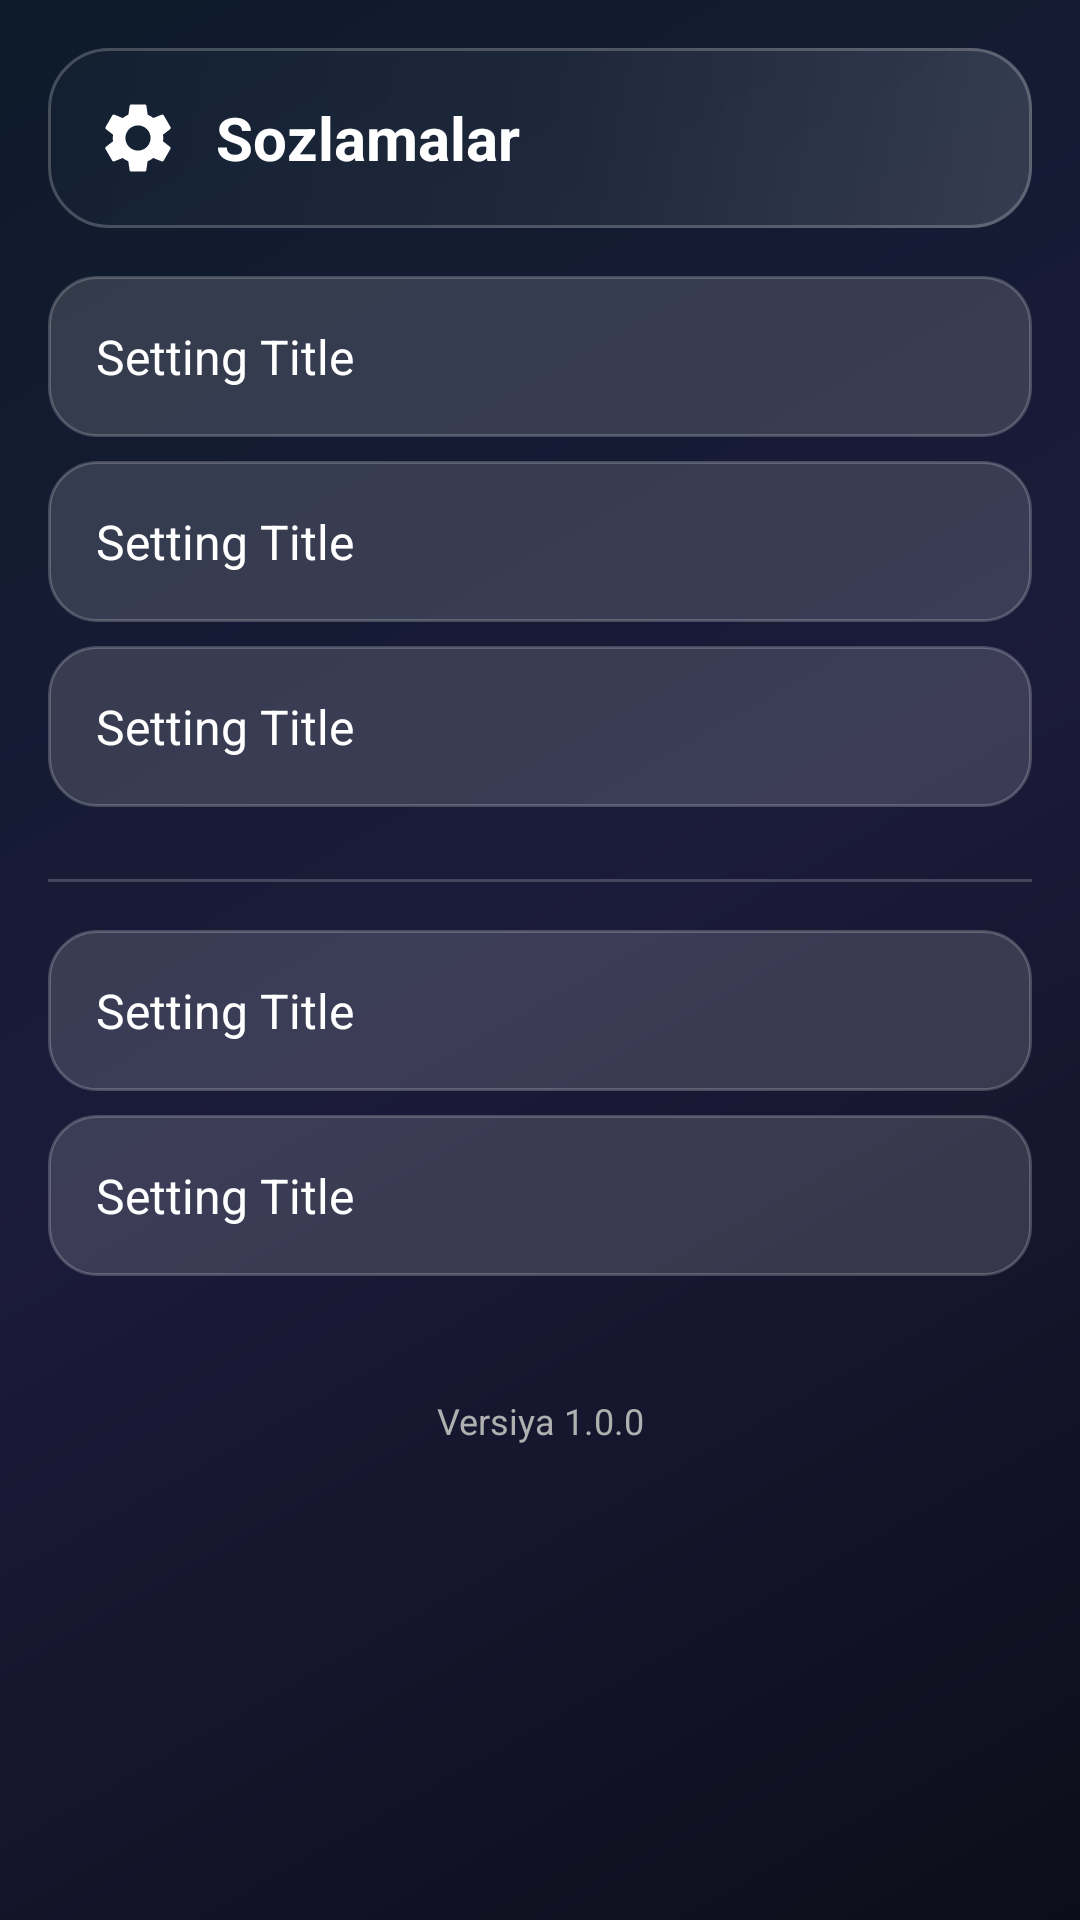

Locate icon controls on the screen. Image size 1080*1920, boxes as (x1, y1, x2, y2).
settings: (105, 104, 171, 172)
